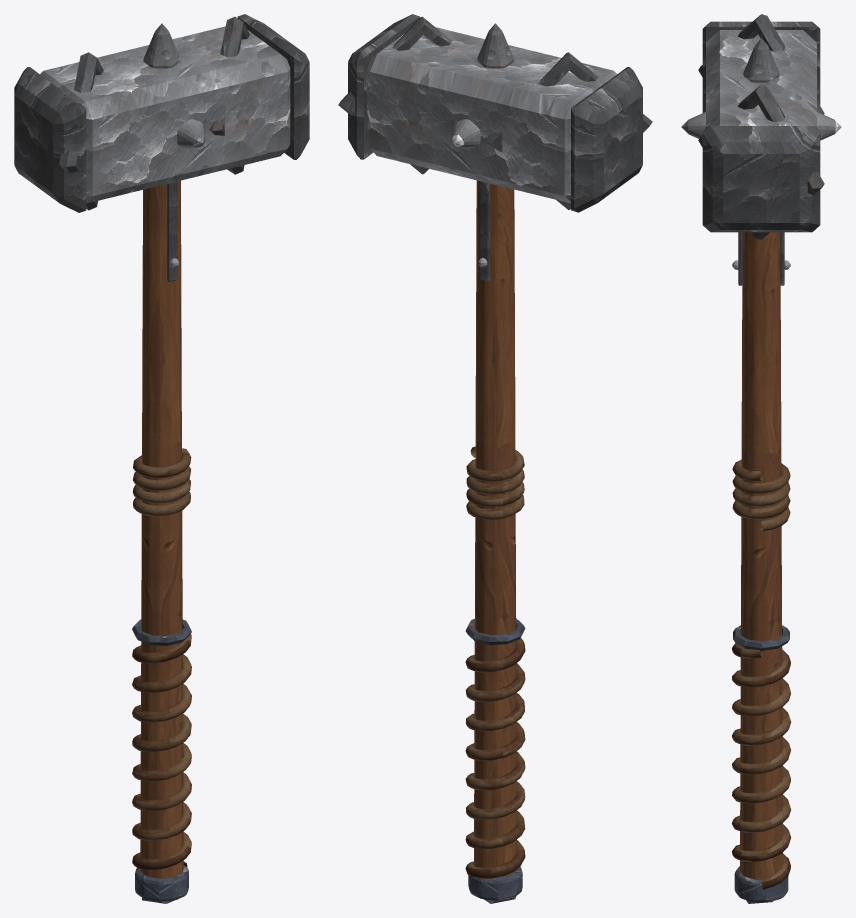
File: mace_2h_silver.glb
The picture shows the model from 3 angles, left to right: view 1: azimuth 30°, elevation 25°; view 2: azimuth 150°, elevation 25°; view 3: azimuth 270°, elevation 25°; orthographic projection.
Parts seen in each view (by area): view 1: model; view 2: model; view 3: model.
Boxes of the visible parts, bbox=[...] form: model: bbox=[14, 14, 309, 903]; model: bbox=[338, 14, 652, 903]; model: bbox=[681, 14, 841, 903].
Bounding box in the file's own units: 0.4226 × 1.37 × 0.2322.
Materials: 8 (7 with a texture image).
